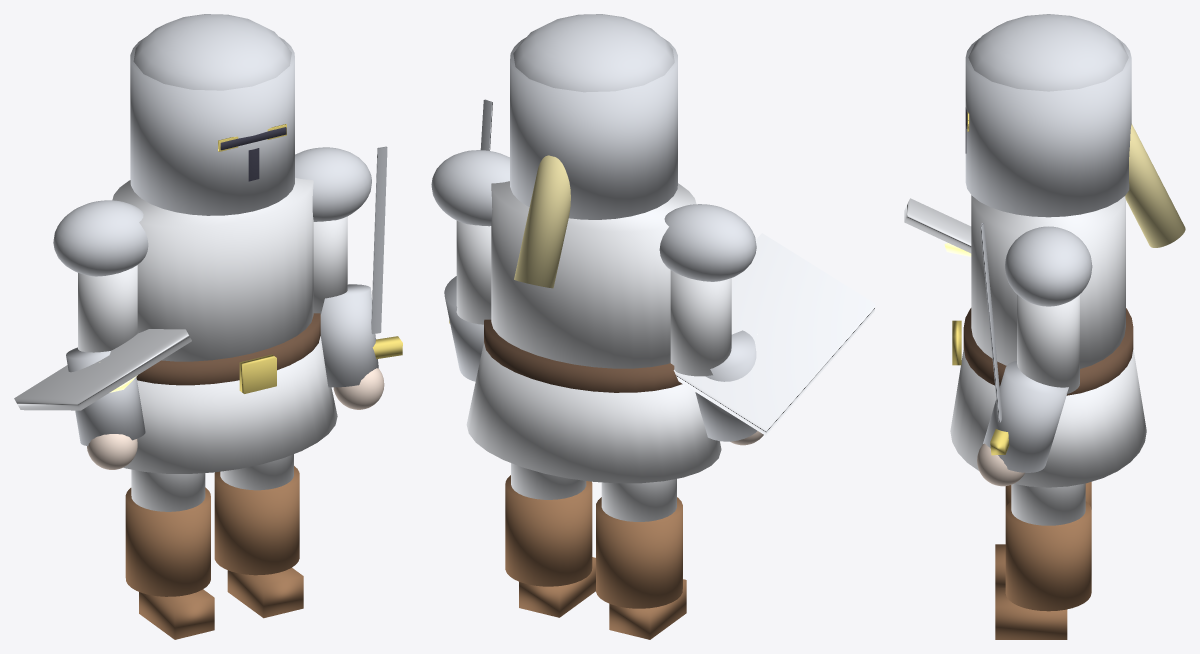
File: hero_paladin_female.glb
3 views of the same model, side by side, from view 1: azimuth 30°, elevation 25°; view 2: azimuth 150°, elevation 25°; view 3: azimuth 270°, elevation 25° (orthographic). The views are drawn at different scales.
Visible parts, largest first — view 1: Cylinder.002, Cylinder, Cone, Sphere, Cylinder.005, Cylinder.007, Cube.009, Sphere.001, Cylinder.011, Cylinder.008, Sphere.003, Cylinder.003 (+11 smaller); view 2: Cylinder.002, Cone, Cylinder, Cube.009, Sphere, Cylinder.007, Cylinder.005, Sphere.001, Cylinder.008, Cylinder.003, Cylinder.001, Sphere.003 (+7 smaller); view 3: Cylinder, Cylinder.002, Cone, Sphere, Cylinder.007, Sphere.003, Cylinder.011, Cylinder.010, Cylinder.001, Cylinder.003, Cylinder.006, Cube.006 (+6 smaller).
Part boxes in pixels (x1=…): Cylinder.002: x1=112, y1=177, x2=313, y2=361; Cylinder: x1=130, y1=37, x2=294, y2=215; Cone: x1=123, y1=336, x2=337, y2=473; Sphere: x1=133, y1=14, x2=291, y2=90; Cylinder.005: x1=125, y1=487, x2=210, y2=596; Cylinder.007: x1=214, y1=466, x2=299, y2=575; Cube.009: x1=14, y1=329, x2=191, y2=410; Sphere.001: x1=53, y1=200, x2=148, y2=276; Cylinder.011: x1=320, y1=284, x2=378, y2=387; Cylinder.008: x1=78, y1=265, x2=137, y2=352; Sphere.003: x1=295, y1=147, x2=371, y2=221; Cylinder.003: x1=136, y1=313, x2=320, y2=385; Cylinder.002: x1=491, y1=181, x2=696, y2=368; Cone: x1=466, y1=343, x2=721, y2=483; Cylinder: x1=510, y1=37, x2=677, y2=219; Cube.009: x1=673, y1=233, x2=875, y2=435; Sphere: x1=513, y1=14, x2=674, y2=92; Cylinder.007: x1=505, y1=475, x2=592, y2=586; Cylinder.005: x1=596, y1=497, x2=682, y2=608; Sphere.001: x1=659, y1=204, x2=756, y2=281; Cylinder.008: x1=670, y1=270, x2=731, y2=376; Cylinder.003: x1=484, y1=319, x2=682, y2=392; Cylinder.001: x1=514, y1=155, x2=570, y2=288; Sphere.003: x1=431, y1=150, x2=509, y2=226; Cylinder: x1=965, y1=38, x2=1131, y2=217; Cylinder.002: x1=971, y1=195, x2=1125, y2=368; Cone: x1=950, y1=349, x2=1146, y2=487; Sphere: x1=968, y1=14, x2=1128, y2=91; Cylinder.007: x1=1005, y1=501, x2=1091, y2=611; Sphere.003: x1=1005, y1=226, x2=1092, y2=306; Cylinder.011: x1=983, y1=361, x2=1068, y2=472; Cylinder.010: x1=1017, y1=294, x2=1079, y2=393; Cylinder.001: x1=1125, y1=124, x2=1185, y2=247; Cylinder.003: x1=963, y1=308, x2=1133, y2=395; Cylinder.006: x1=1011, y1=483, x2=1085, y2=525; Cube.006: x1=995, y1=587, x2=1067, y2=639.
Size of the model in its own units: 0.7515 by 1.12 by 0.4912.
